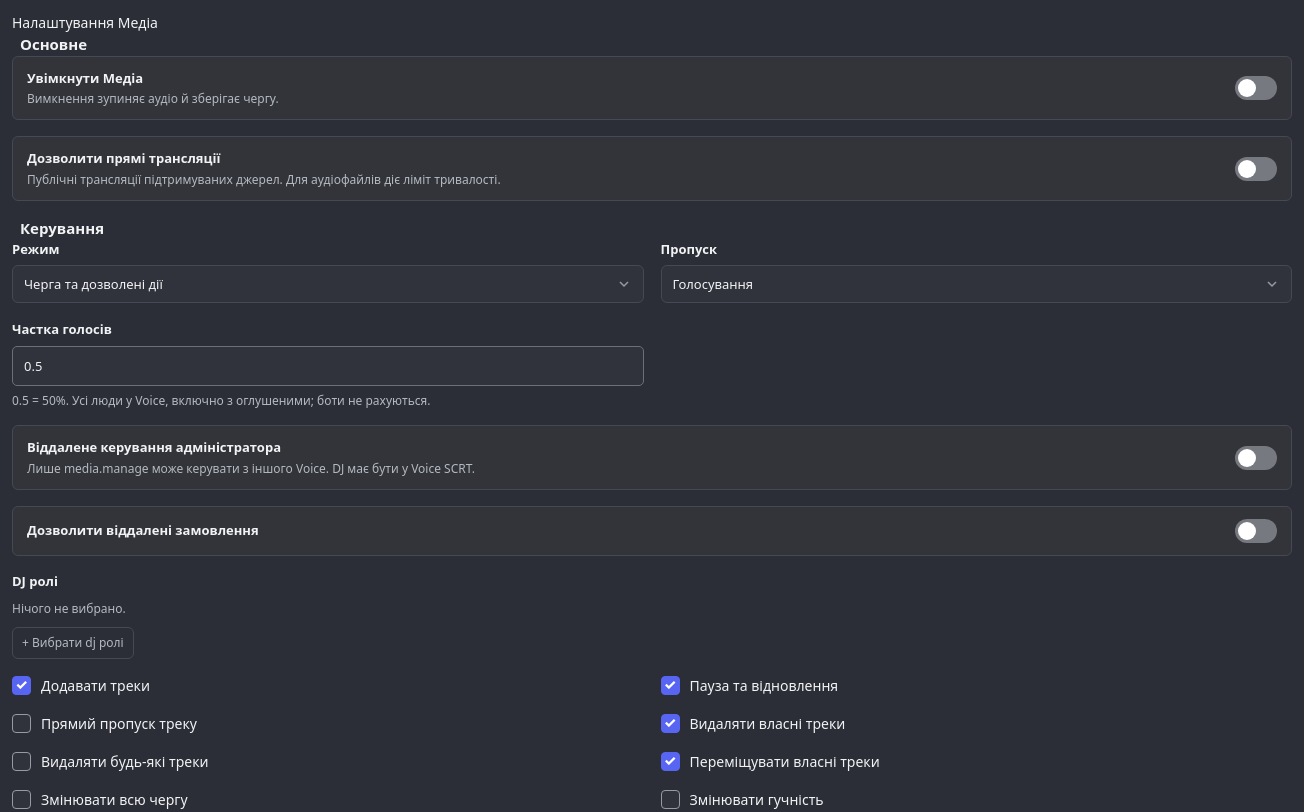
Media settings banner save › submits enabling through the floating save button with valid native form values
What coordinates should you click on to do the following:
click the switch labelled "Увімкнути Медіа Вимкнення зупиняє аудіо й зберігає чергу."
I would click on:
 (1256, 88)
Its box is top-left (1235, 76), bottom-right (1277, 100).
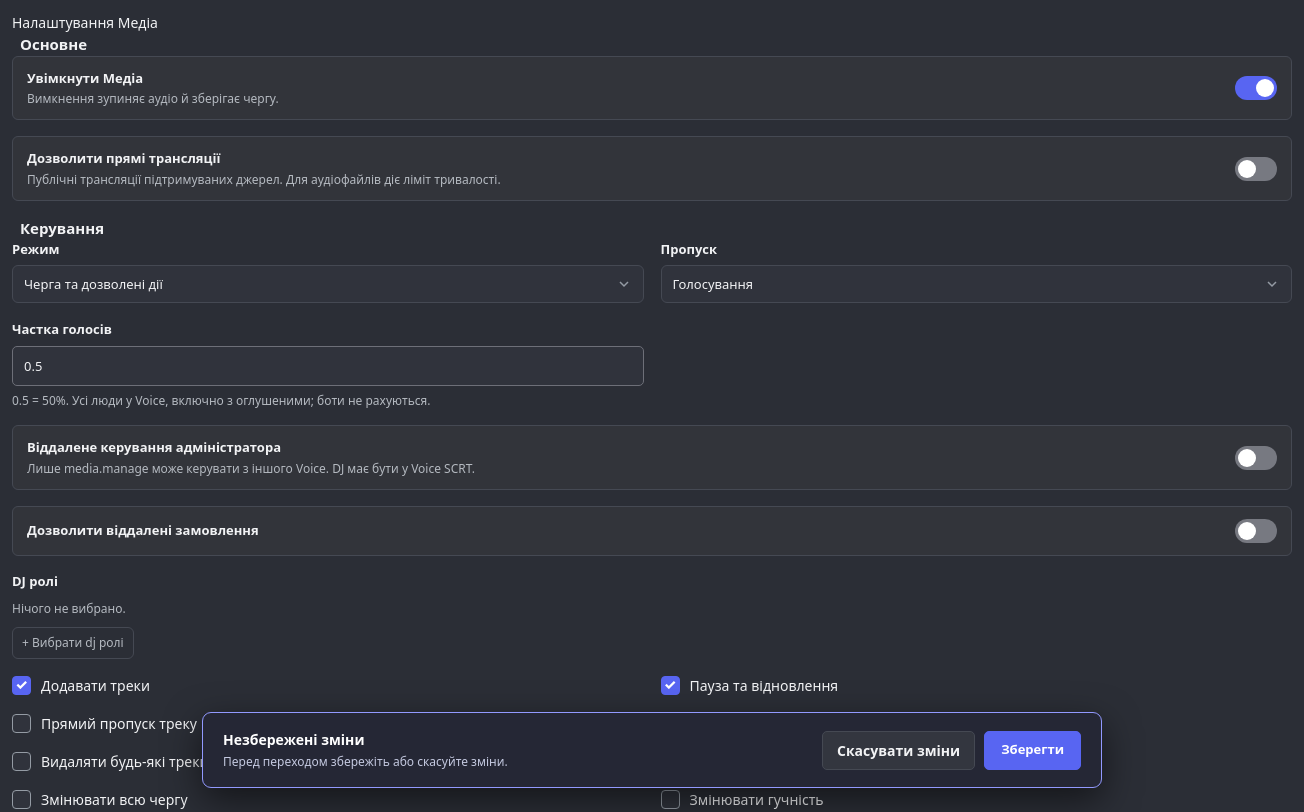
What coordinates should you click on to do the following:
click the button "Зберегти"
I would click on:
 (1033, 750)
Its box is top-left (984, 730), bottom-right (1081, 770).
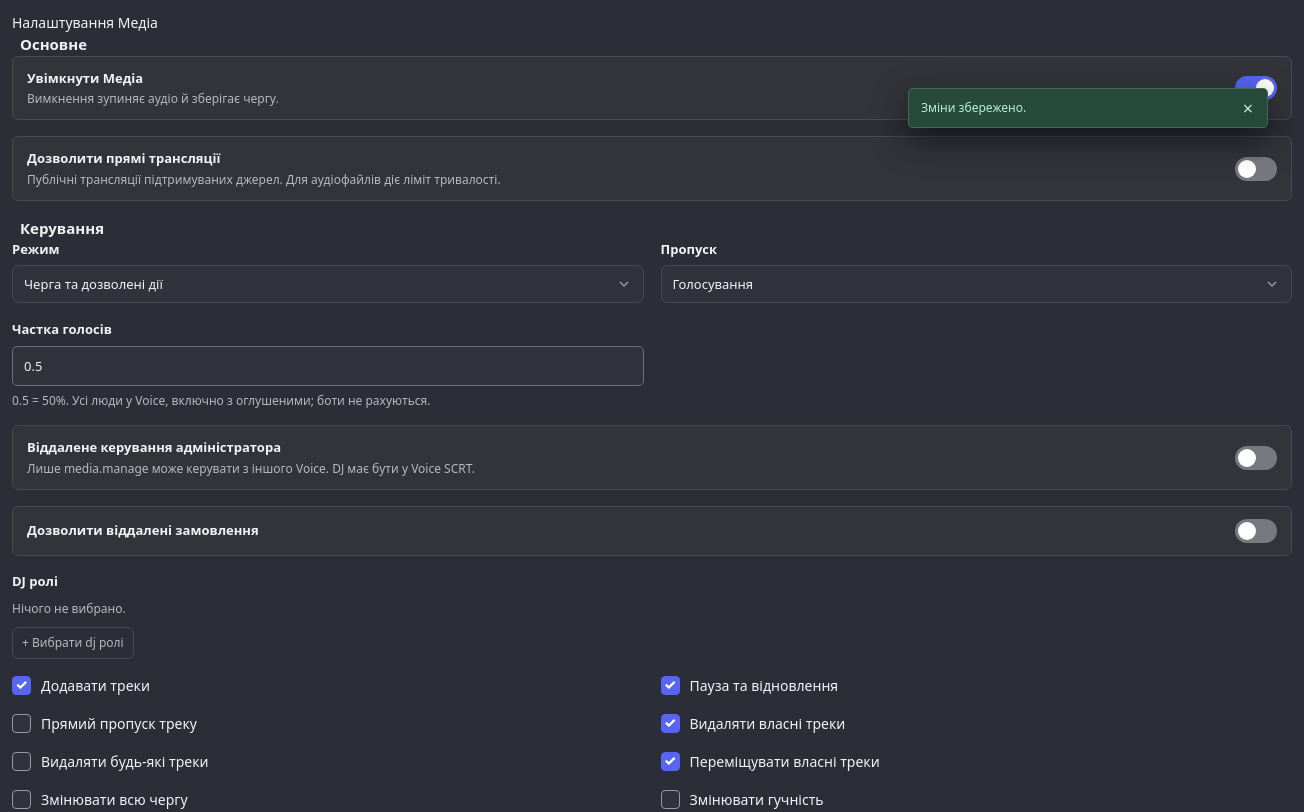
Check: the text "Незбережені зміни" is gone
